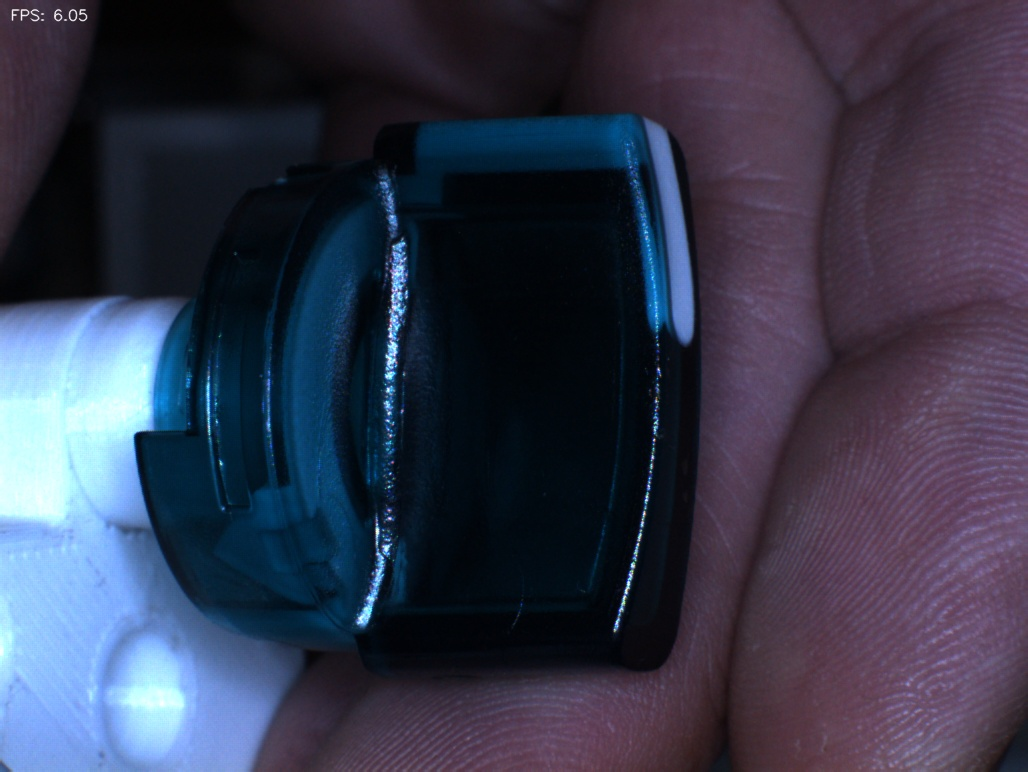Givrage: (481, 539, 543, 638)
